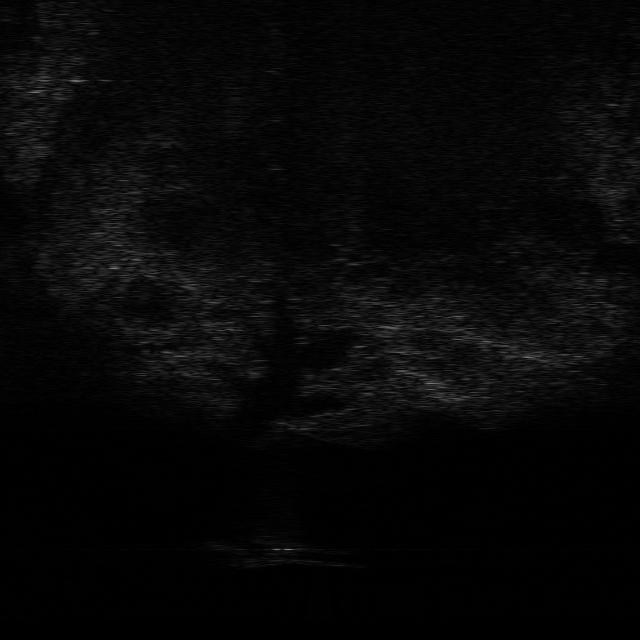plane: (210, 532, 365, 570)
